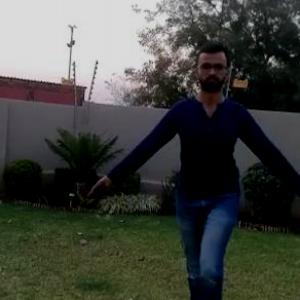land: (129, 67, 299, 299)
